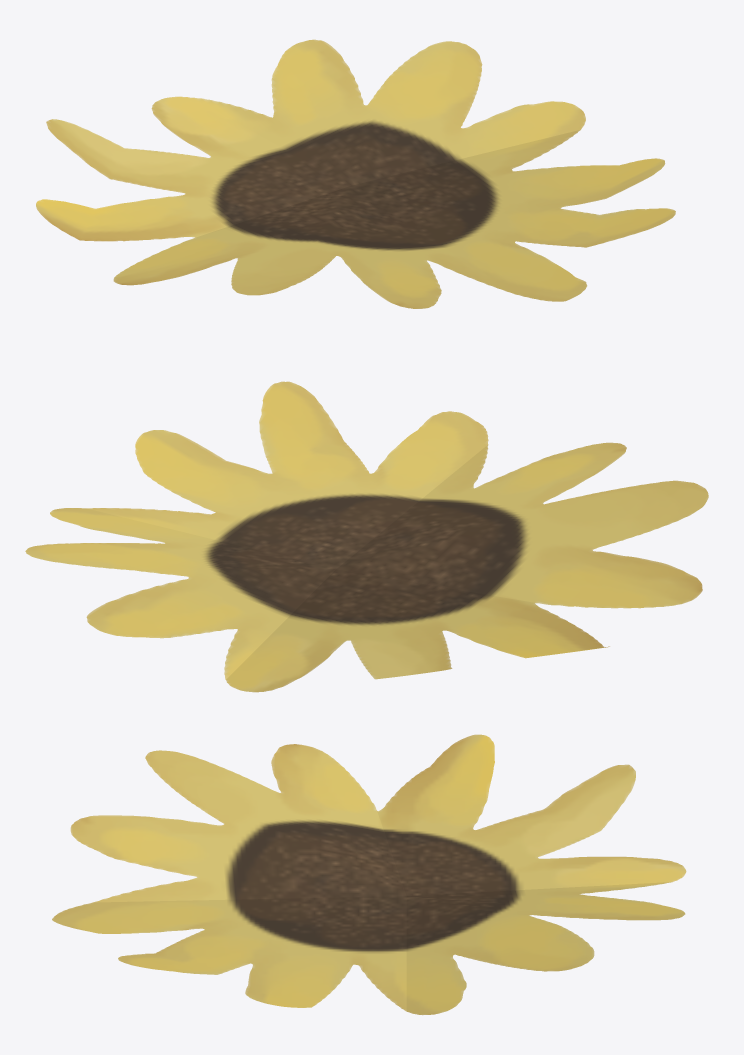
Rendered from SmallFlower_01.fbx.
The picture shows the model from 3 angles, top to bottom: view 1: azimuth 30°, elevation 25°; view 2: azimuth 150°, elevation 25°; view 3: azimuth 270°, elevation 25°; orthographic projection. The views are drawn at different scales.
Visible parts, largest first — view 1: SM_FlowerSunFlower; view 2: SM_FlowerSunFlower; view 3: SM_FlowerSunFlower.
Part boxes in pixels (x1=…): SM_FlowerSunFlower: x1=36, y1=39, x2=675, y2=308; SM_FlowerSunFlower: x1=25, y1=381, x2=708, y2=692; SM_FlowerSunFlower: x1=52, y1=734, x2=686, y2=1015.
Bounding box in the file's own units: 14.58 × 0.9577 × 14.52.
